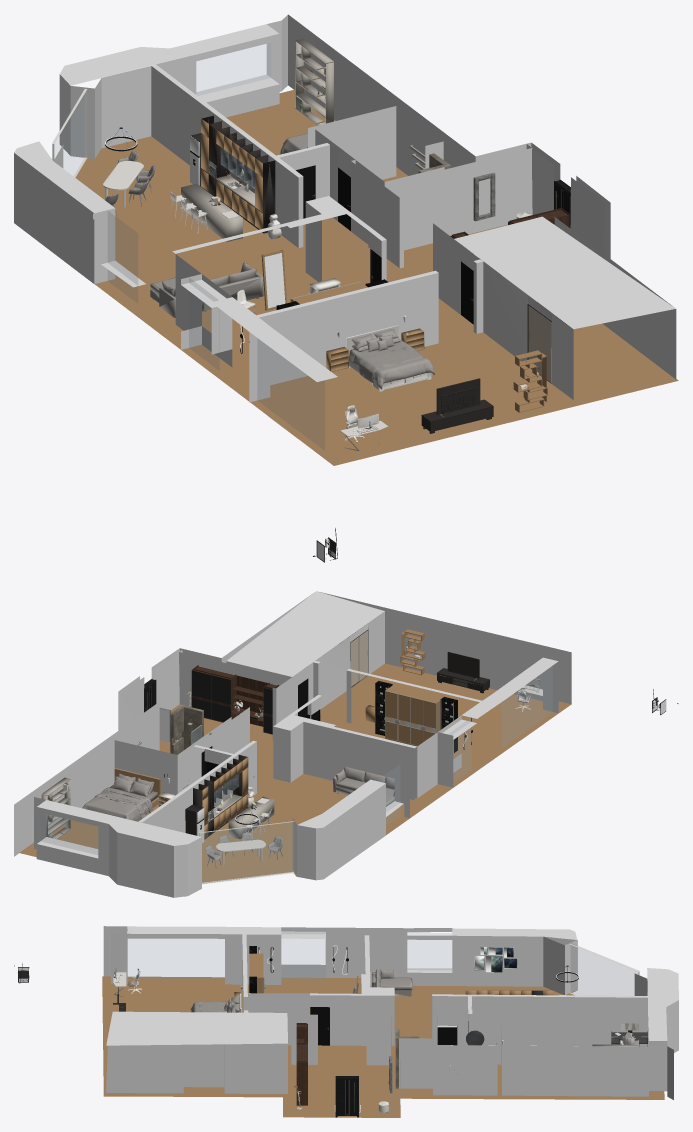
File: AAELS-mobile.glb
The picture shows the model from 3 angles, top to bottom: view 1: azimuth 30°, elevation 25°; view 2: azimuth 150°, elevation 25°; view 3: azimuth 270°, elevation 25°; orthographic projection. The views are drawn at different scales.
Visible parts, largest first — view 1: AAELS_MOBILE_DECOR, AAELS_MOBILE_ARCHITECTURE, Куб.003; view 2: AAELS_MOBILE_DECOR, AAELS_MOBILE_ARCHITECTURE, Cabinet, Cabinet.001; view 3: AAELS_MOBILE_DECOR, AAELS_MOBILE_ARCHITECTURE.
Part boxes in pixels (<box>): AAELS_MOBILE_DECOR: <box>14,14,678,560</box>; AAELS_MOBILE_ARCHITECTURE: <box>190,135,570,562</box>; Куб.003: <box>473,172,495,221</box>; AAELS_MOBILE_DECOR: <box>14,591,678,897</box>; AAELS_MOBILE_ARCHITECTURE: <box>144,678,666,842</box>; Cabinet: <box>375,681,392,735</box>; Cabinet.001: <box>440,696,457,752</box>; AAELS_MOBILE_DECOR: <box>14,926,678,1117</box>; AAELS_MOBILE_ARCHITECTURE: <box>18,946,517,1117</box>.
Size of the model in its own units: 14.01 by 2.95 by 23.14.
Materials: 66 (12 with a texture image).
